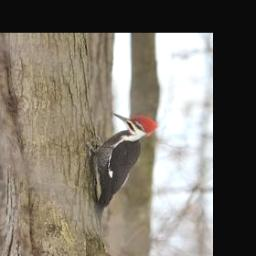Woodpecker: (80, 112, 158, 231)
